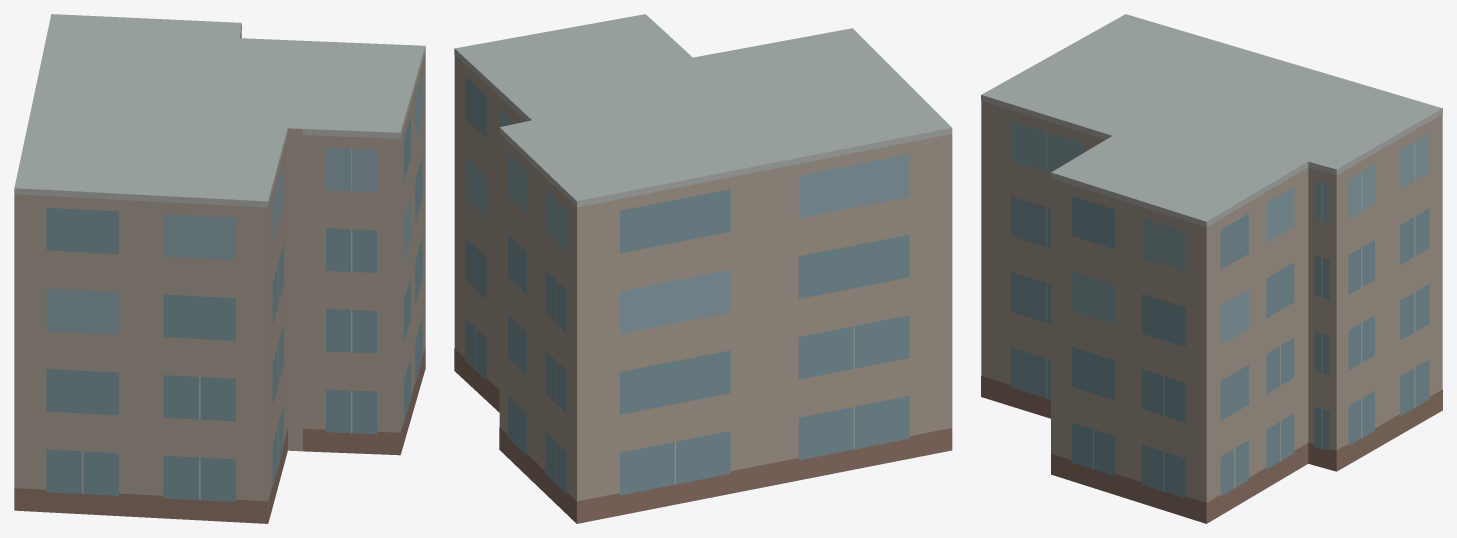
Rendered from survey-upis-32625893.glb.
3 renders of one model, left to right at view 1: azimuth 30°, elevation 25°; view 2: azimuth 150°, elevation 25°; view 3: azimuth 270°, elevation 25°, orthographic. The views are drawn at different scales.
Visible parts, largest first — view 1: survey-upis-32625893.tmp; view 2: survey-upis-32625893.tmp; view 3: survey-upis-32625893.tmp.
Boxes of the visible parts, <box> form: survey-upis-32625893.tmp: <box>14,14,425,523</box>; survey-upis-32625893.tmp: <box>454,14,952,523</box>; survey-upis-32625893.tmp: <box>981,14,1442,523</box>.
Bounding box in the file's own units: 18.89 × 12.8 × 17.73.
